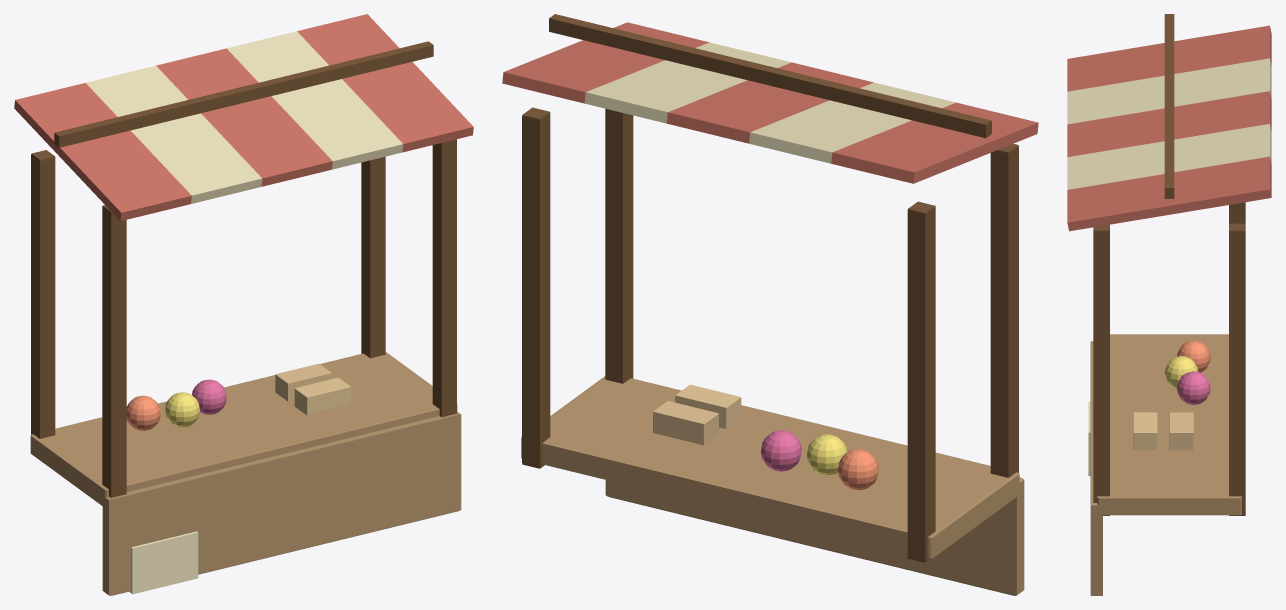
File: market_stall.glb
The picture shows the model from 3 angles, left to right: view 1: azimuth 30°, elevation 25°; view 2: azimuth 150°, elevation 25°; view 3: azimuth 270°, elevation 25°; orthographic projection. The views are drawn at different scales.
Visible parts, largest first — view 1: market_stall; view 2: market_stall; view 3: market_stall.
Part boxes in pixels (x1=…): market_stall: x1=14, y1=14, x2=473, y2=595; market_stall: x1=502, y1=14, x2=1038, y2=595; market_stall: x1=1067, y1=14, x2=1271, y2=595.
Bounding box in the file's own units: 1.7 × 1.9 × 0.8434.
